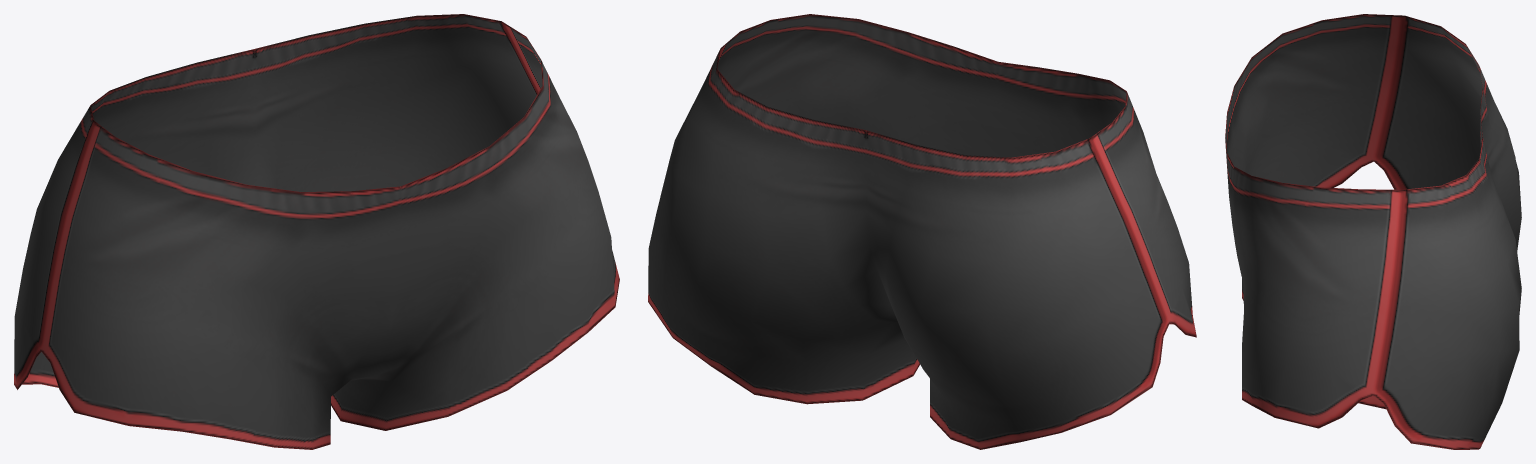
File: ninjasuitshort.glb
The picture shows the model from 3 angles, left to right: view 1: azimuth 30°, elevation 25°; view 2: azimuth 150°, elevation 25°; view 3: azimuth 270°, elevation 25°; orthographic projection. The views are drawn at different scales.
Visible parts, largest first — view 1: ninjasuitshort; view 2: ninjasuitshort; view 3: ninjasuitshort.
Boxes of the visible parts, x1,y1,x2,y2 form: ninjasuitshort: [14, 14, 619, 449]; ninjasuitshort: [648, 14, 1196, 449]; ninjasuitshort: [1225, 14, 1521, 449].
Bounding box in the file's own units: 0.4883 × 0.2886 × 0.2589.
1 material, 1 textured.
